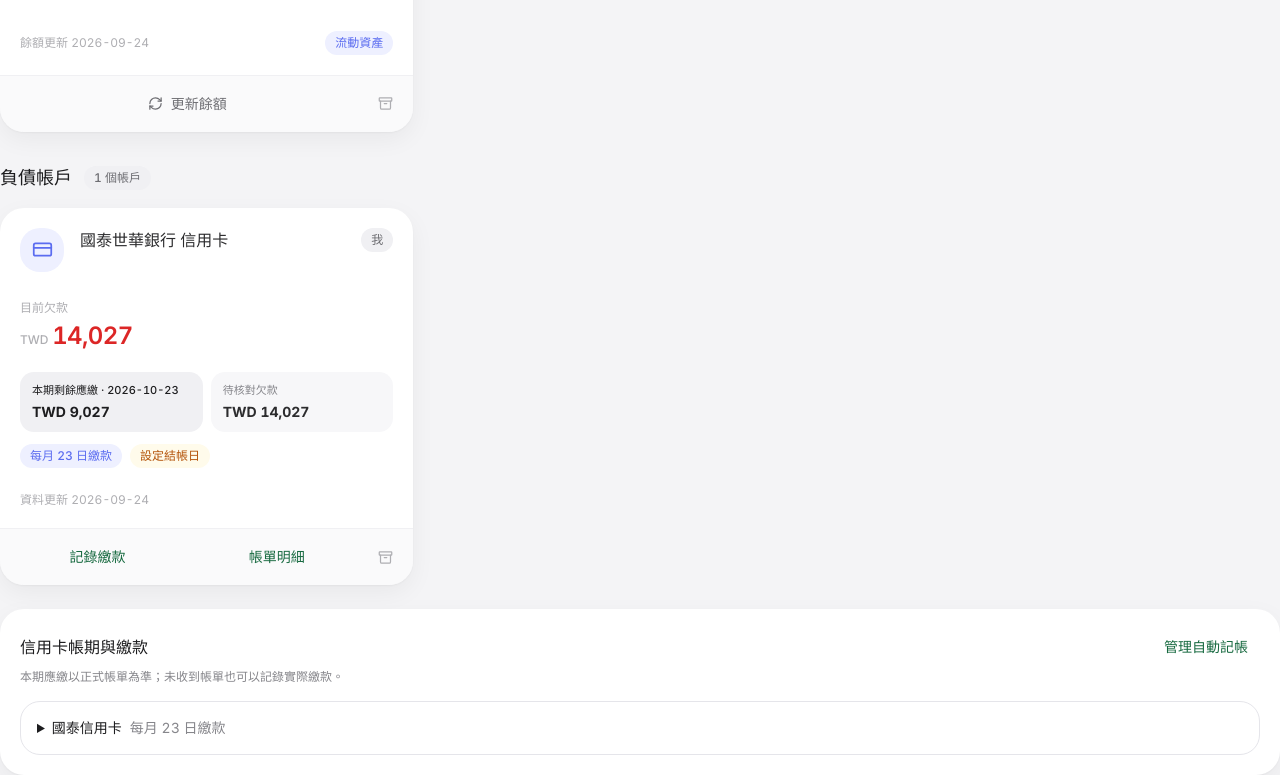
Test: associates a payment with the pending formal bill when one exists
Later steps or results of the test are not shown.
(page scrolled)
Expected: the text "TWD 9,027" is shown, [32, 403, 110, 420]
Click the button "記錄繳款" at (98, 557), box [8, 537, 187, 577]
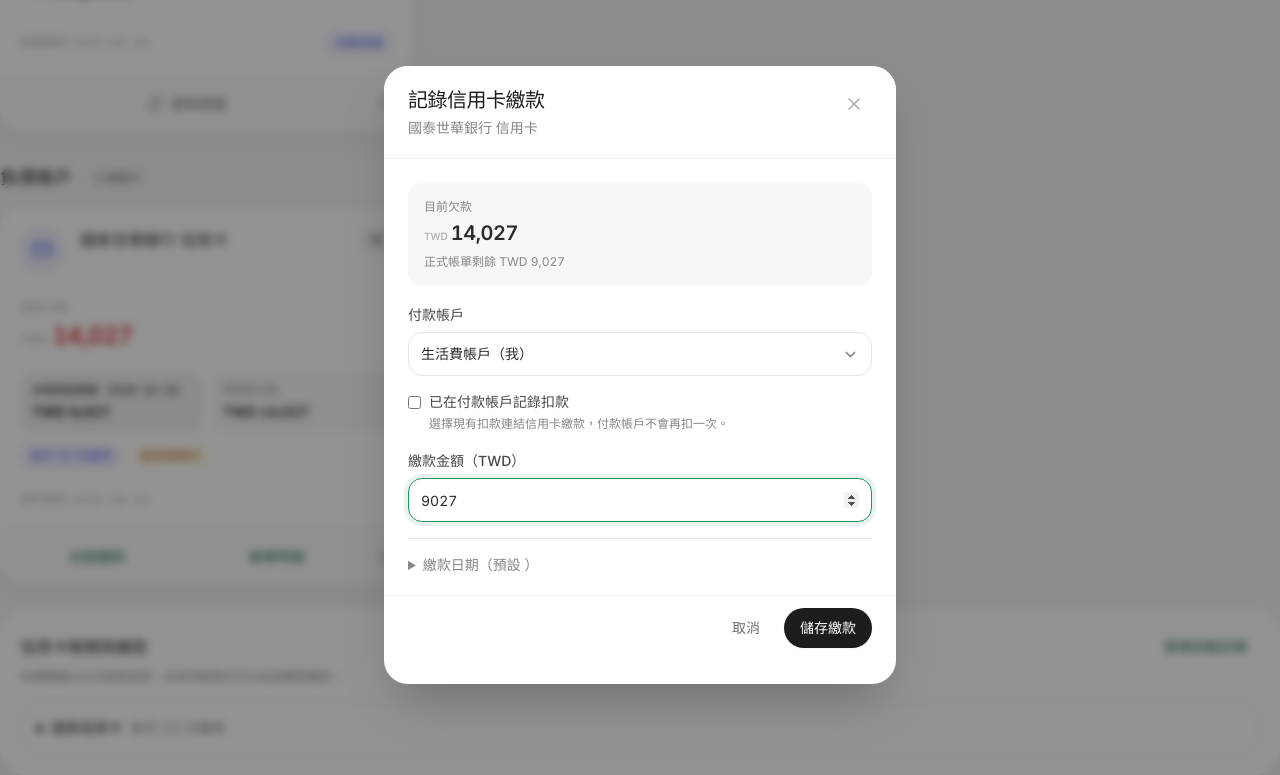
Now the number field labelled "繳款金額（TWD）" holds "9027", box [408, 478, 872, 522]
